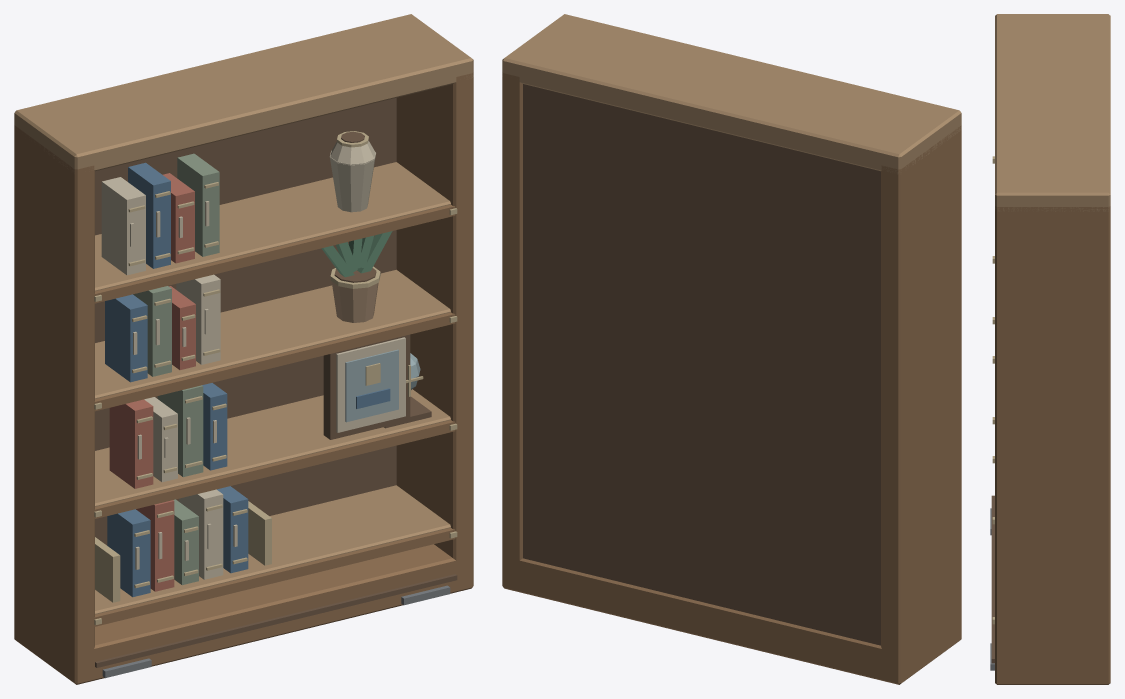
Rendered from 0-20261016-1900-ev053-r09-cfo-officedecor.fbx.
3 renders of one model, left to right at view 1: azimuth 30°, elevation 25°; view 2: azimuth 150°, elevation 25°; view 3: azimuth 270°, elevation 25°, orthographic. The views are drawn at different scales.
Visible parts, largest first — view 1: SW_Exec_OfficeDecor; view 2: SW_Exec_OfficeDecor; view 3: SW_Exec_OfficeDecor.
Part boxes in pixels (x1,y1,x2,y2): SW_Exec_OfficeDecor: (14,14,473,684); SW_Exec_OfficeDecor: (502,14,961,684); SW_Exec_OfficeDecor: (990,14,1110,684).
Size of the model in its own units: 155 by 197 by 43.7.
